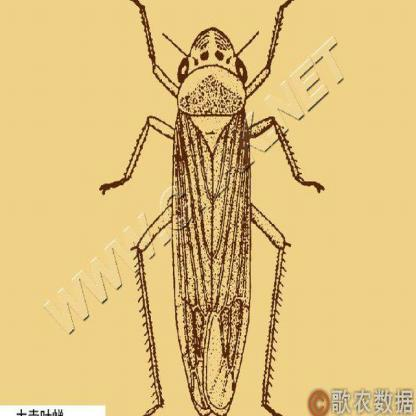Green-Leafhopper: (96, 0, 326, 416)
